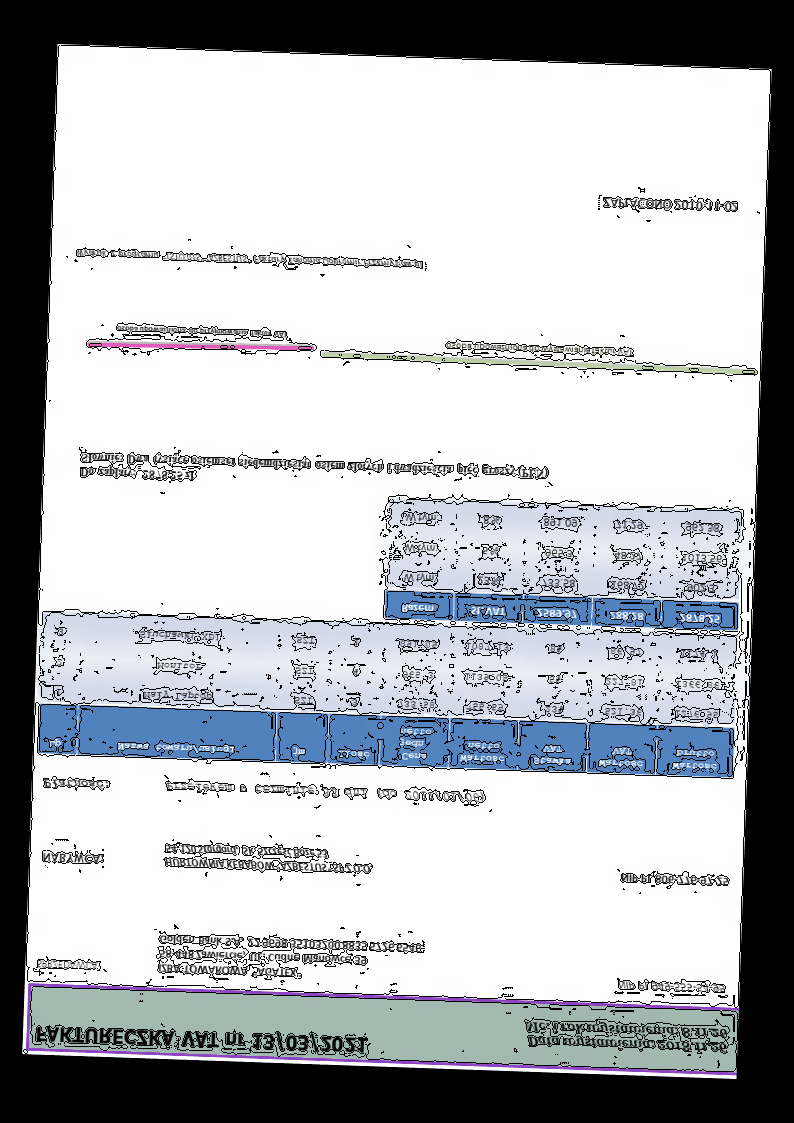Table: (36, 609, 739, 780), (383, 497, 743, 632)
TextBox: (77, 448, 551, 496), (156, 932, 423, 984), (33, 1021, 369, 1056), (74, 245, 425, 272), (165, 778, 487, 805), (520, 1017, 728, 1056), (163, 842, 375, 875), (443, 339, 634, 359), (114, 322, 288, 341), (600, 195, 738, 215), (618, 871, 729, 888), (616, 978, 726, 995), (41, 776, 111, 793), (35, 956, 101, 974), (40, 850, 104, 867)
